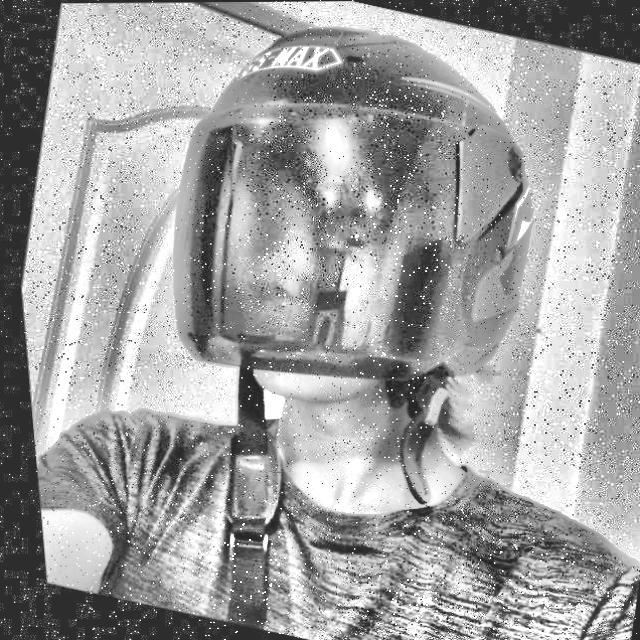Helmet: (66, 0, 604, 640)
